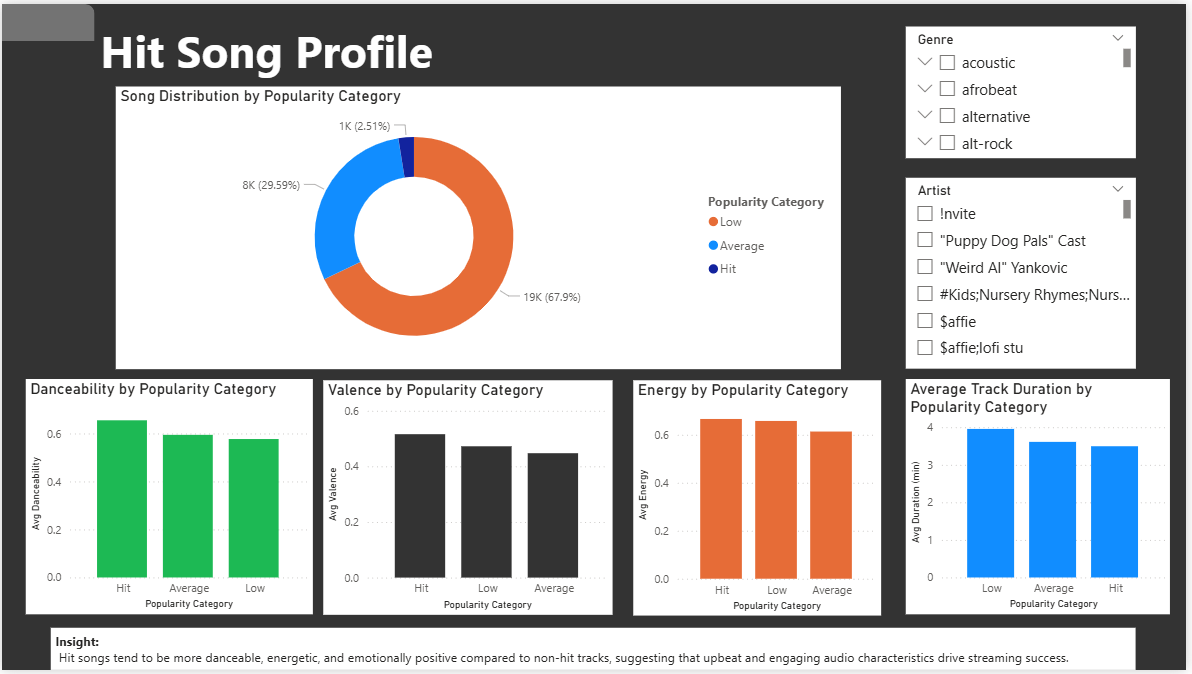

The page's visual inventory and layout, read from the dashboard file:
{"tool":"powerbi","page":{"name":"Hit Song Profile","canvas":[1280,720],"ordinal":3},"visuals":[{"type":"textbox","box":[101.5,12.3,466.6,155.1],"z":0},{"type":"donutChart","title":"Song Distribution by Popularity Category","fields":{"Category":["Spotify_Tracks.Popularity Category"],"Y":["Spotify_Tracks.Total Tracks"]},"box":[123.1,89.3,784.2,305.2],"z":1000},{"type":"clusteredColumnChart","title":"Danceability by Popularity Category","fields":{"Category":["Spotify_Tracks.Popularity Category"],"Y":["Spotify_Tracks.Avg Danceability"]},"box":[25.3,405.4,310.1,254.6],"z":2000},{"type":"clusteredColumnChart","title":"Energy by Popularity Category","fields":{"Category":["Spotify_Tracks.Popularity Category"],"Y":["Spotify_Tracks.Avg Energy"]},"box":[682.8,406.6,267.8,254.6],"z":3000},{"type":"clusteredColumnChart","title":"Valence by Popularity Category","fields":{"Category":["Spotify_Tracks.Popularity Category"],"Y":["Spotify_Tracks.Avg Valence"]},"box":[347.5,406.6,312.5,253.4],"z":4000},{"type":"clusteredColumnChart","title":"Average Track Duration by Popularity Category","fields":{"Category":["Spotify_Tracks.Popularity Category"],"Y":["Spotify_Tracks.Avg Duration (min)"]},"box":[977.2,405.4,285.9,254.6],"z":5000},{"type":"slicer","fields":{"Values":["Spotify_Tracks.track_genre.1","Spotify_Tracks.track_genre.2"]},"box":[977.2,24.1,248.5,142.4],"z":6000},{"type":"slicer","fields":{"Values":["Spotify_Tracks.Artist"]},"box":[977.2,188.2,248.5,206.3],"z":7000},{"type":"textbox","box":[53.1,674.4,1172.7,45.8],"z":8000},{"type":"actionButton","box":[0,0,100,40],"z":9000}]}

Visuals, with their boxes in screenshot pixels (x1, y1, x2, y2), scaled from the page's 1280x720 canvas onto the 1192x674 screenshot:
textbox: {"x1": 95, "y1": 12, "x2": 529, "y2": 157}
"Song Distribution by Popularity Category" donutChart: {"x1": 115, "y1": 84, "x2": 845, "y2": 369}
"Danceability by Popularity Category" clusteredColumnChart: {"x1": 24, "y1": 379, "x2": 312, "y2": 618}
"Energy by Popularity Category" clusteredColumnChart: {"x1": 636, "y1": 381, "x2": 885, "y2": 619}
"Valence by Popularity Category" clusteredColumnChart: {"x1": 324, "y1": 381, "x2": 615, "y2": 618}
"Average Track Duration by Popularity Category" clusteredColumnChart: {"x1": 910, "y1": 379, "x2": 1176, "y2": 618}
slicer - Spotify_Tracks.track_genre.1 x Spotify_Tracks.track_genre.2: {"x1": 910, "y1": 23, "x2": 1141, "y2": 156}
slicer - Spotify_Tracks.Artist: {"x1": 910, "y1": 176, "x2": 1141, "y2": 369}
textbox: {"x1": 49, "y1": 631, "x2": 1142, "y2": 673}
actionButton: {"x1": 0, "y1": 0, "x2": 93, "y2": 37}
